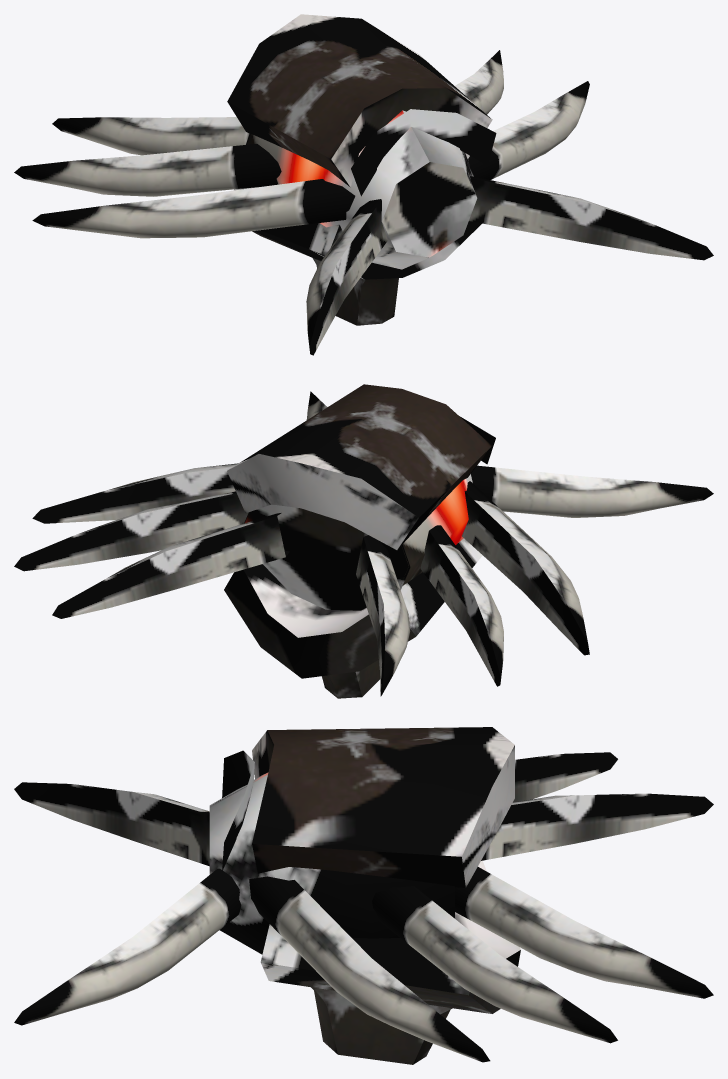
Rendered from Fanatic.fbx.
3 renders of one model, top to bottom at view 1: azimuth 30°, elevation 25°; view 2: azimuth 150°, elevation 25°; view 3: azimuth 270°, elevation 25°, orthographic. The views are drawn at different scales.
Parts seen in each view (by area): view 1: Fanatic; view 2: Fanatic; view 3: Fanatic.
Part boxes in pixels (x1,y1,x2,y2): Fanatic: [14, 14, 713, 355]; Fanatic: [14, 384, 713, 698]; Fanatic: [14, 727, 713, 1064].
Size of the model in its own units: 120 by 54.03 by 110.
1 material, 1 textured.
